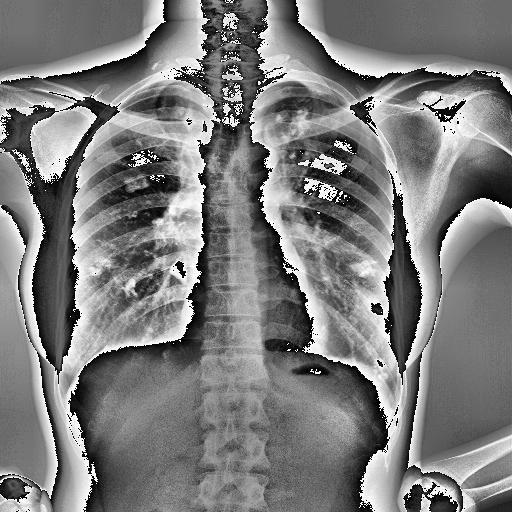11- Pleural thickening: (272, 88, 324, 144), (158, 91, 194, 128)
13- Pulmonary fibrosis: (274, 110, 338, 172), (367, 354, 390, 382), (86, 257, 114, 277), (349, 262, 377, 278), (169, 261, 188, 283), (126, 176, 150, 192), (122, 278, 138, 298)
2- Calcification: (274, 110, 338, 172), (272, 88, 324, 144), (158, 91, 194, 128), (274, 108, 312, 138), (109, 206, 163, 226), (354, 286, 386, 317), (171, 98, 196, 130), (290, 150, 334, 168), (343, 258, 379, 276), (367, 354, 390, 382), (122, 172, 150, 192), (88, 256, 113, 276), (167, 259, 187, 284), (349, 262, 377, 278), (169, 261, 188, 283), (372, 357, 388, 381), (124, 278, 140, 297)
8- Nodule-Mass: (107, 205, 165, 227), (354, 283, 384, 315), (82, 254, 114, 274), (350, 259, 382, 277), (166, 260, 188, 286), (124, 172, 149, 194), (349, 262, 377, 278), (122, 277, 138, 299), (367, 302, 385, 314), (286, 152, 297, 159), (324, 163, 334, 169)
9- Other lesion: (169, 261, 188, 283), (122, 278, 138, 298)
